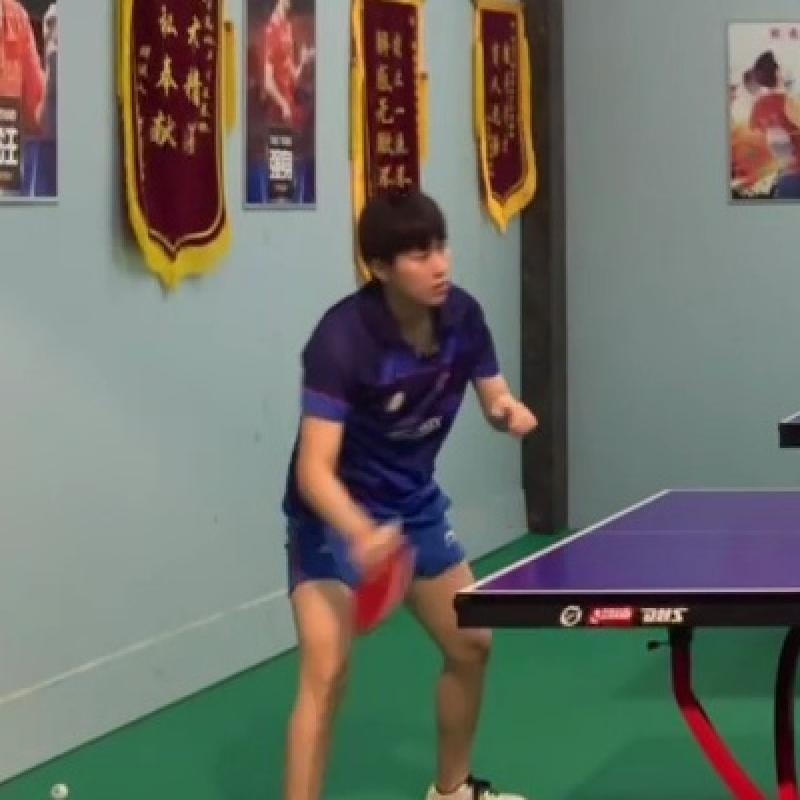bats: (340, 527, 414, 650)
